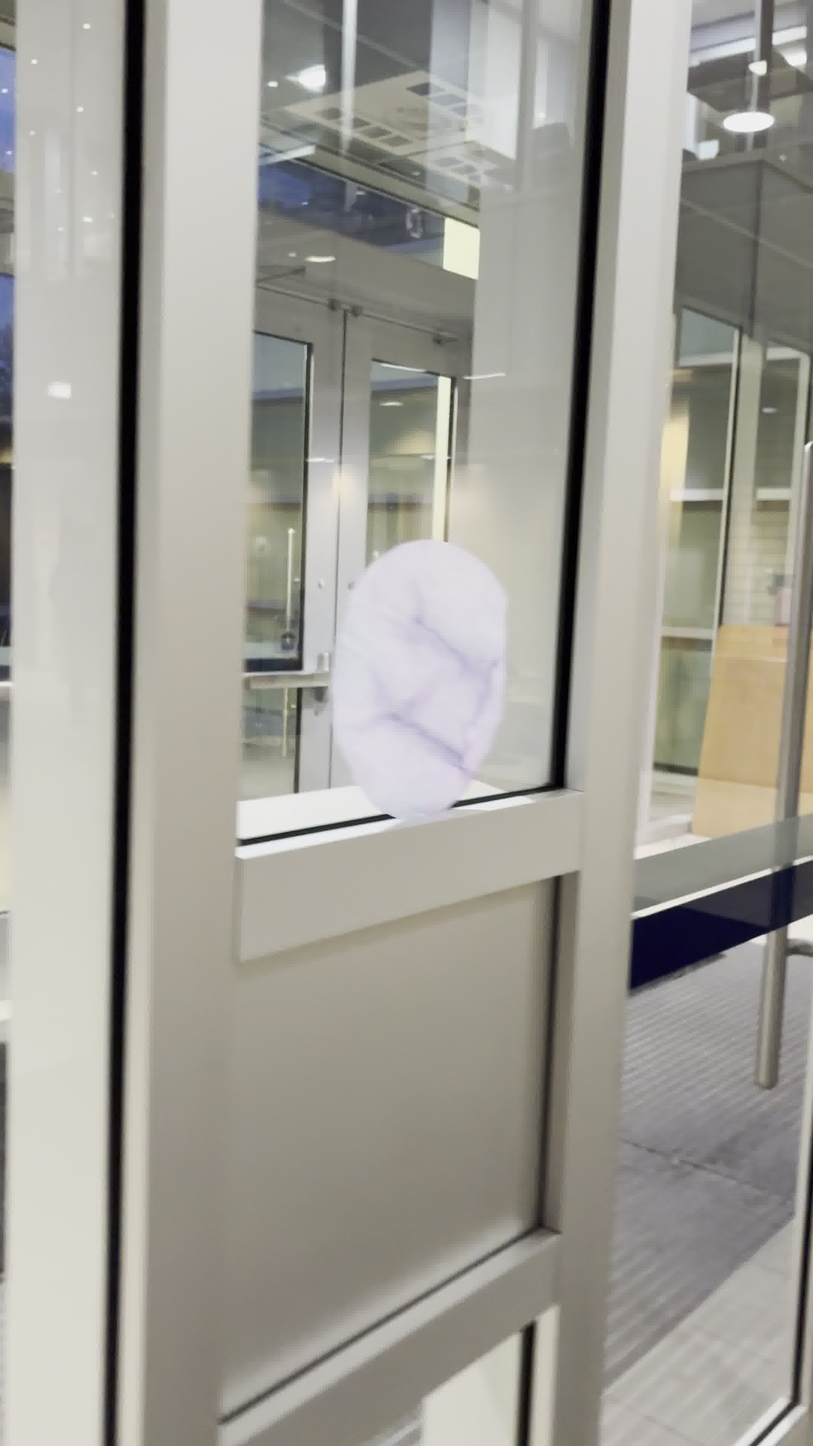Target: (333, 539, 507, 819)
